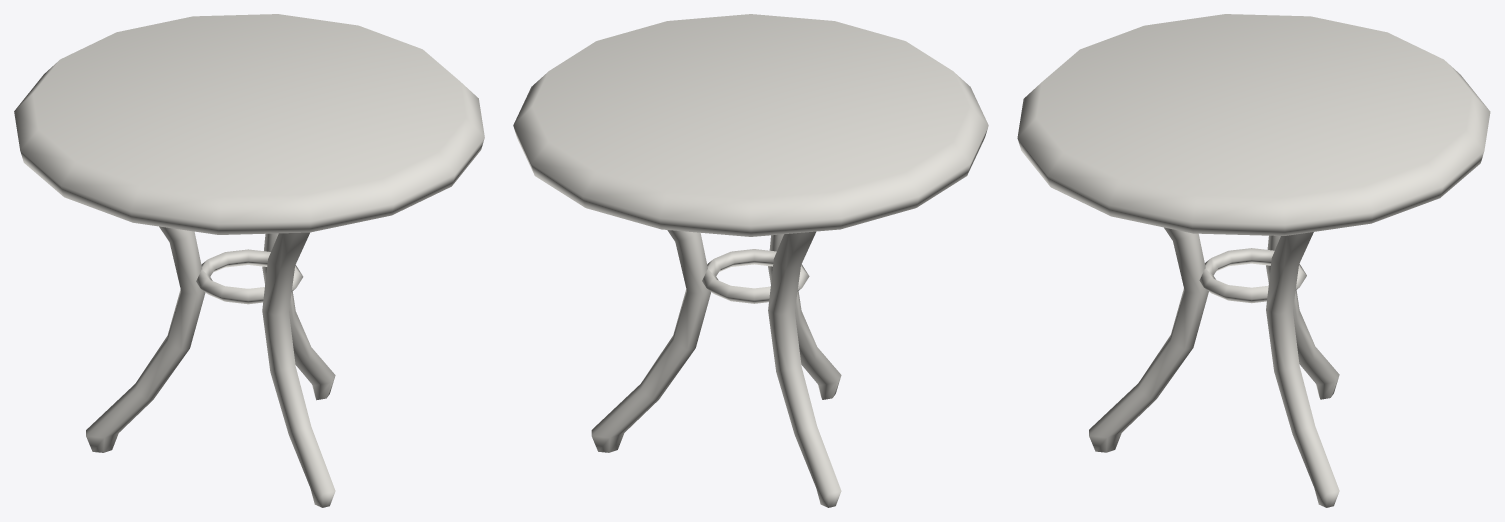
File: table4.glb
The picture shows the model from 3 angles, left to right: view 1: azimuth 30°, elevation 25°; view 2: azimuth 150°, elevation 25°; view 3: azimuth 270°, elevation 25°; orthographic projection.
Parts seen in each view (by area): view 1: node_id86, node_id84; view 2: node_id86, node_id84; view 3: node_id86, node_id84.
Part boxes in pixels (x1,y1,x2,y2): node_id86: [14, 14, 484, 234]; node_id84: [86, 226, 335, 507]; node_id86: [513, 14, 988, 236]; node_id84: [591, 230, 841, 507]; node_id86: [1017, 14, 1490, 235]; node_id84: [1089, 227, 1339, 507].
Size of the model in its own units: 0.512 by 0.4119 by 0.512.
Materials: 2 (2 with a texture image).
